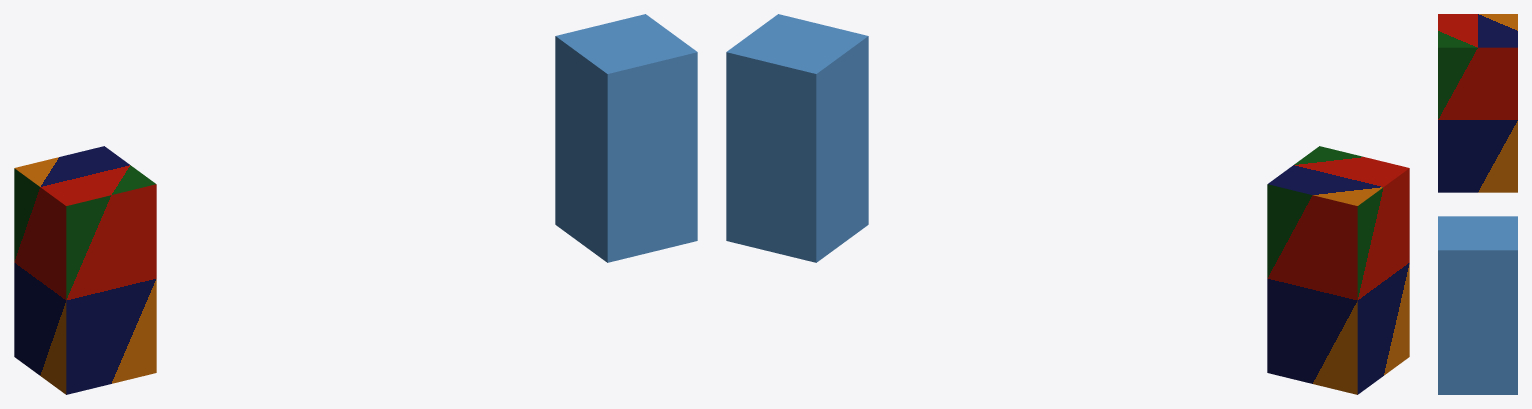
File: source.glb
3 views of the same model, side by side, from view 1: azimuth 30°, elevation 25°; view 2: azimuth 150°, elevation 25°; view 3: azimuth 270°, elevation 25° (orthographic). The views are drawn at different scales.
Parts seen in each view (by area): view 1: shell part, accessory part; view 2: shell part, accessory part; view 3: shell part, accessory part.
Boxes of the visible parts, x1,y1,x2,y2 form: shell part: (14, 146, 156, 394); accessory part: (555, 14, 697, 262); shell part: (1267, 146, 1409, 394); accessory part: (726, 14, 868, 262); shell part: (1438, 14, 1517, 192); accessory part: (1438, 216, 1517, 394).
Size of the model in its own units: 7 by 2 by 1.
Materials: 2 (1 with a texture image).
